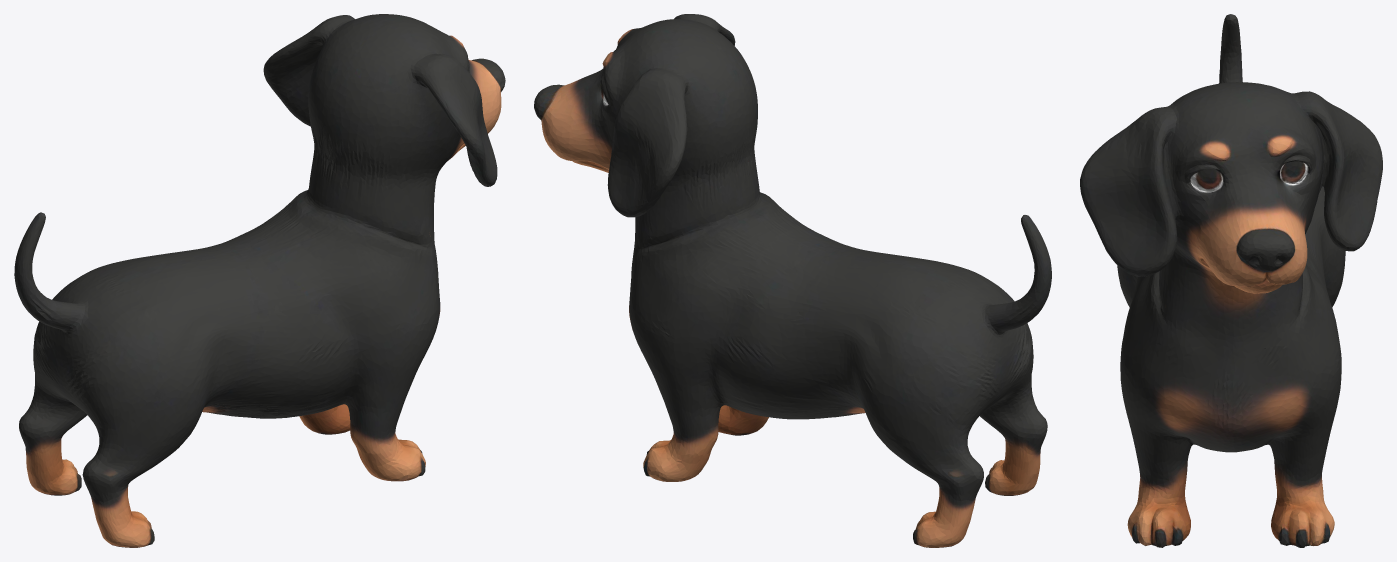
File: dachshund+dog+3d+model.fbx
3 views of the same model, side by side, from view 1: azimuth 30°, elevation 25°; view 2: azimuth 150°, elevation 25°; view 3: azimuth 270°, elevation 25° (orthographic). The views are drawn at different scales.
Visible parts, largest first — view 1: tripo_node_29d870b0; view 2: tripo_node_29d870b0; view 3: tripo_node_29d870b0.
Boxes of the visible parts, left/top/right/bottom form: tripo_node_29d870b0: left=14, top=14, right=505, bottom=547; tripo_node_29d870b0: left=534, top=14, right=1051, bottom=547; tripo_node_29d870b0: left=1080, top=14, right=1382, bottom=547.
Bounding box in the file's own units: 0.9994 × 0.7992 × 0.4755.
1 material, 1 textured.
